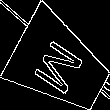M_SE: (30, 32, 90, 98)
